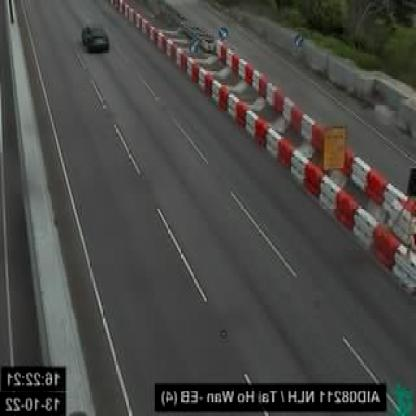Car: (81, 22, 109, 52)
